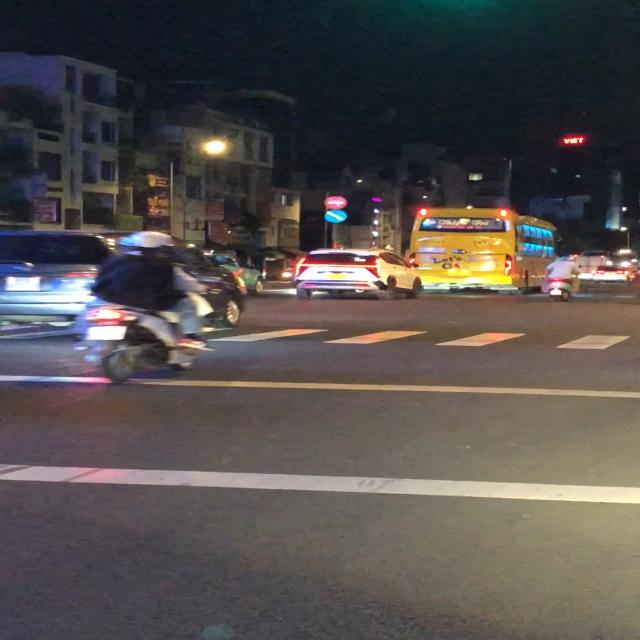Bien bao cam di nguoc chieu: (323, 196, 349, 210)
Bien bao huong phai di vong chuong ngai vat: (324, 209, 348, 223)
